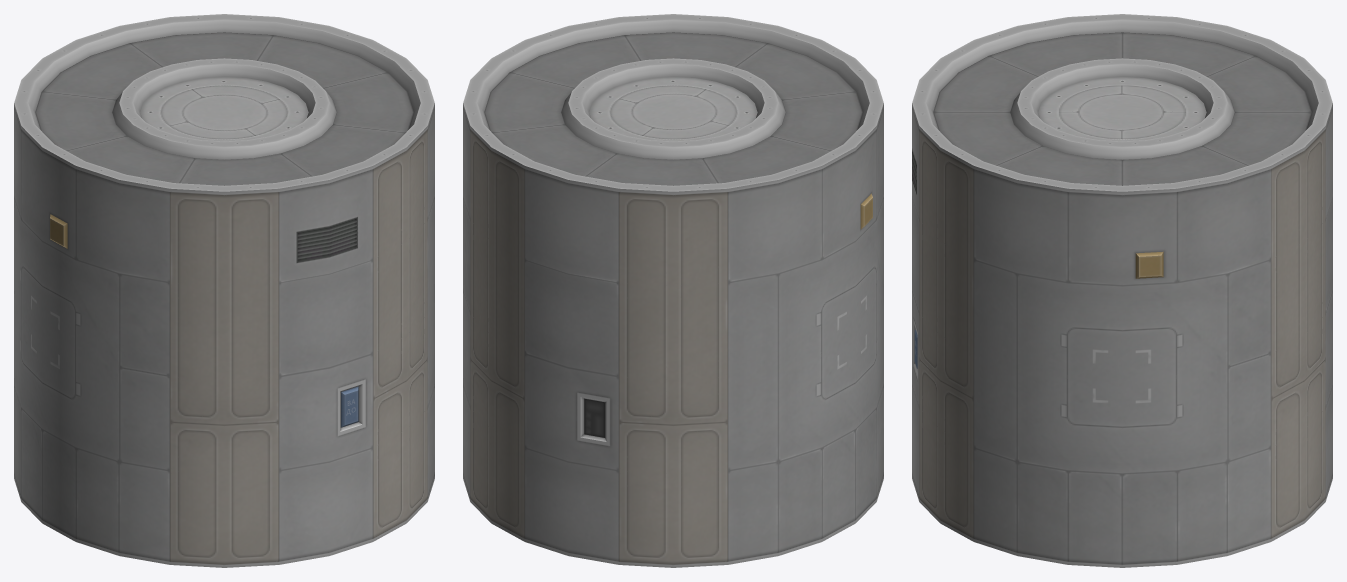
Rendered from Alniyat_Crew_2_2.obj.
3 renders of one model, left to right at view 1: azimuth 30°, elevation 25°; view 2: azimuth 150°, elevation 25°; view 3: azimuth 270°, elevation 25°, orthographic.
Visible parts, largest first — view 1: Alniyat_Crew_2_2; view 2: Alniyat_Crew_2_2; view 3: Alniyat_Crew_2_2.
Boxes of the visible parts, x1=… form: Alniyat_Crew_2_2: x1=14, y1=14, x2=434, y2=567; Alniyat_Crew_2_2: x1=463, y1=14, x2=883, y2=567; Alniyat_Crew_2_2: x1=912, y1=14, x2=1332, y2=567.
Bounding box in the file's own units: 1.88 × 1.85 × 1.88.
